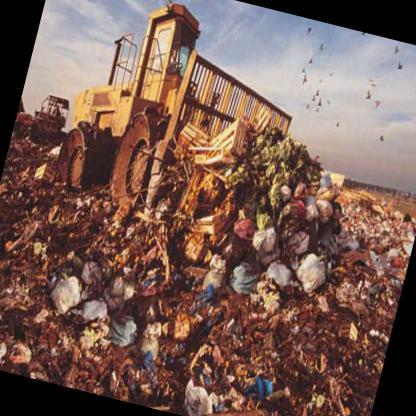Garbage: (265, 302, 364, 415), (238, 170, 328, 289), (36, 246, 129, 348), (157, 238, 230, 356), (161, 361, 234, 415)
